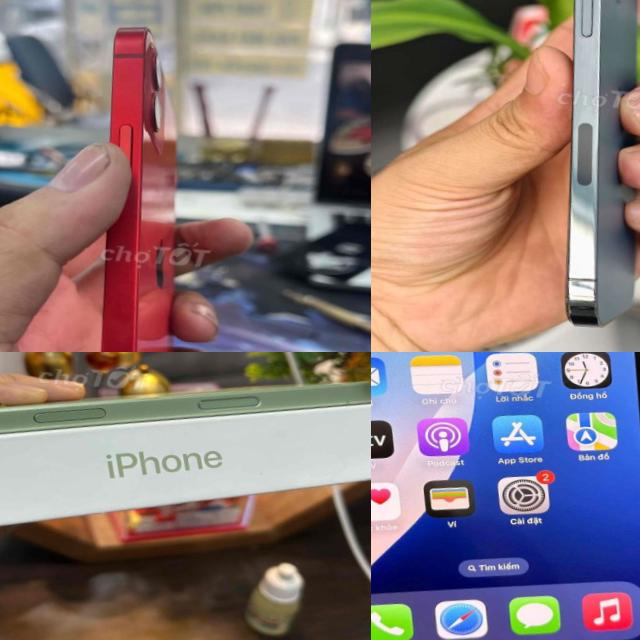gen_11: (371, 352, 640, 640)
gen_12_13: (62, 17, 223, 352), (535, 0, 640, 345)
gen_17: (0, 382, 371, 432)
